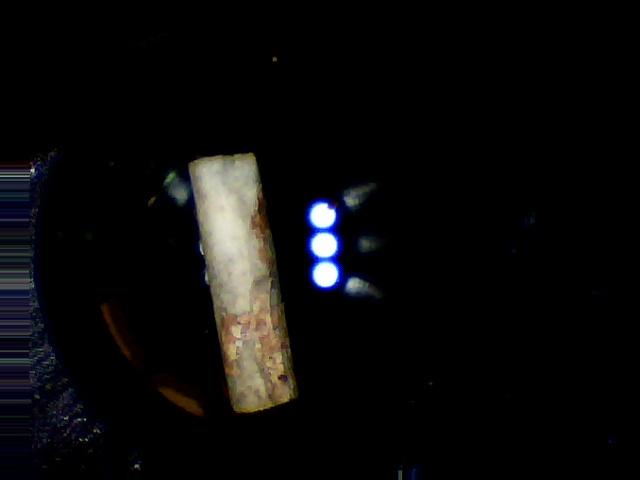megot: (170, 135, 318, 429)
